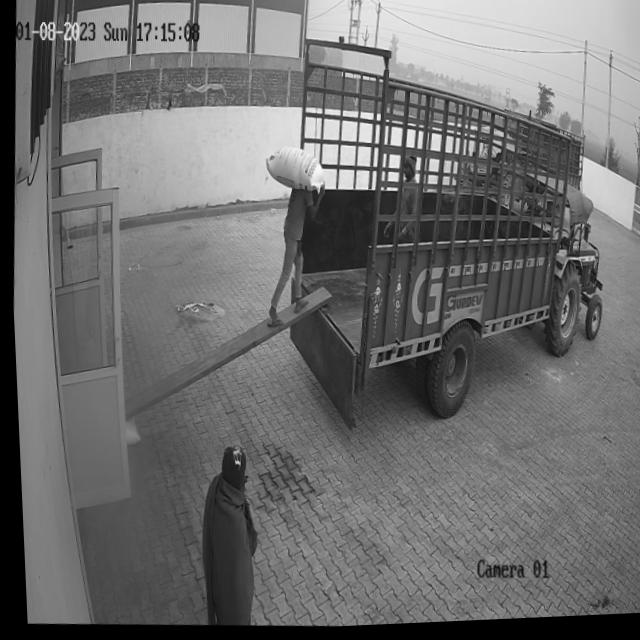sack: (262, 146, 324, 197)
